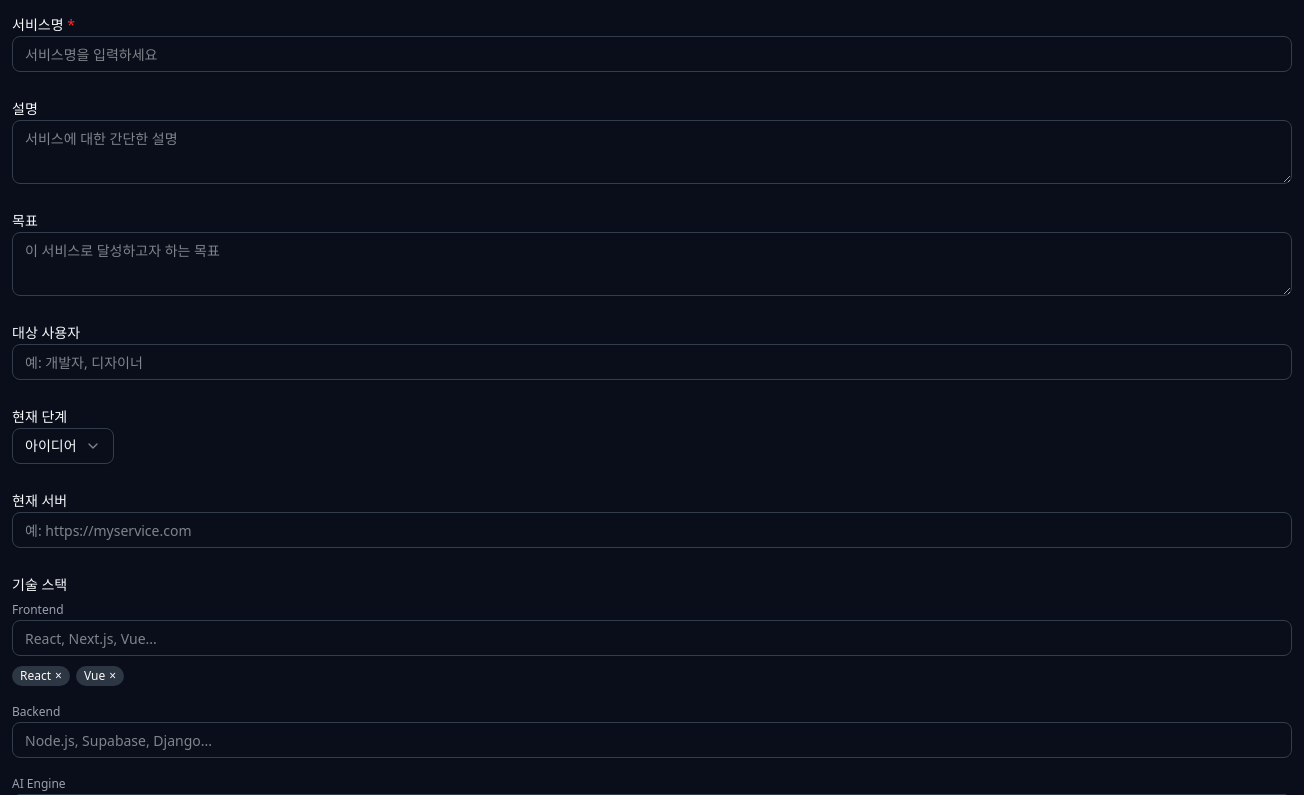
Test case: ServiceForm › 기술 스택 카테고리별 태그 입력 › 태그의 X 버튼으로 삭제할 수 있다
Expected: the text "React" is shown, [20,668,51,684]
Expected: the text "Vue" is shown, [84,668,105,684]
첫 번째 삭제 버튼 클릭 (React)
Click the button named "삭제": coordinates (59, 676) [55,668,62,684]
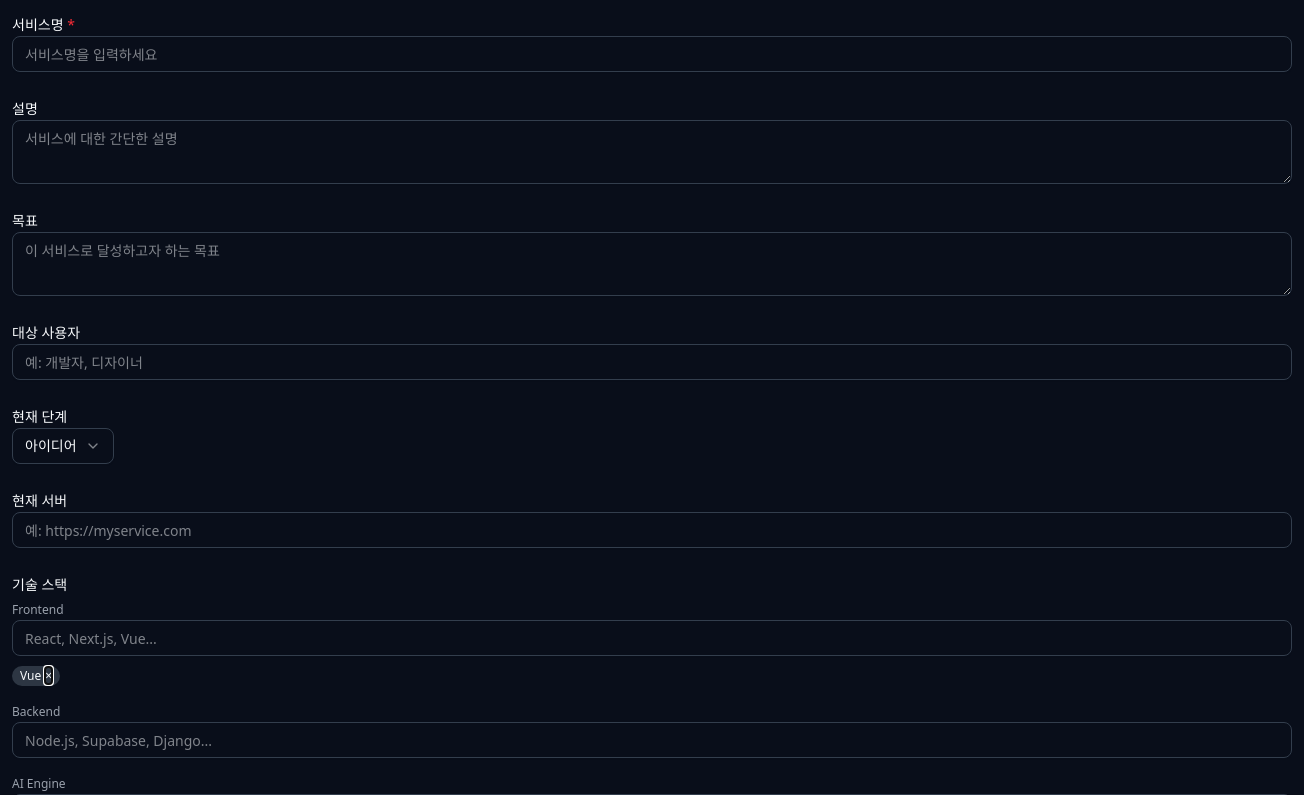
Expected: the text "Vue" is shown, [20,668,41,684]
